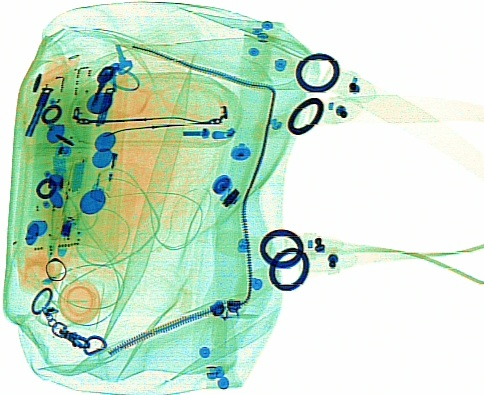lighter: (85, 120, 126, 204)
